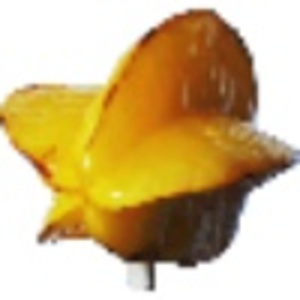carambola: (1, 6, 300, 288)
